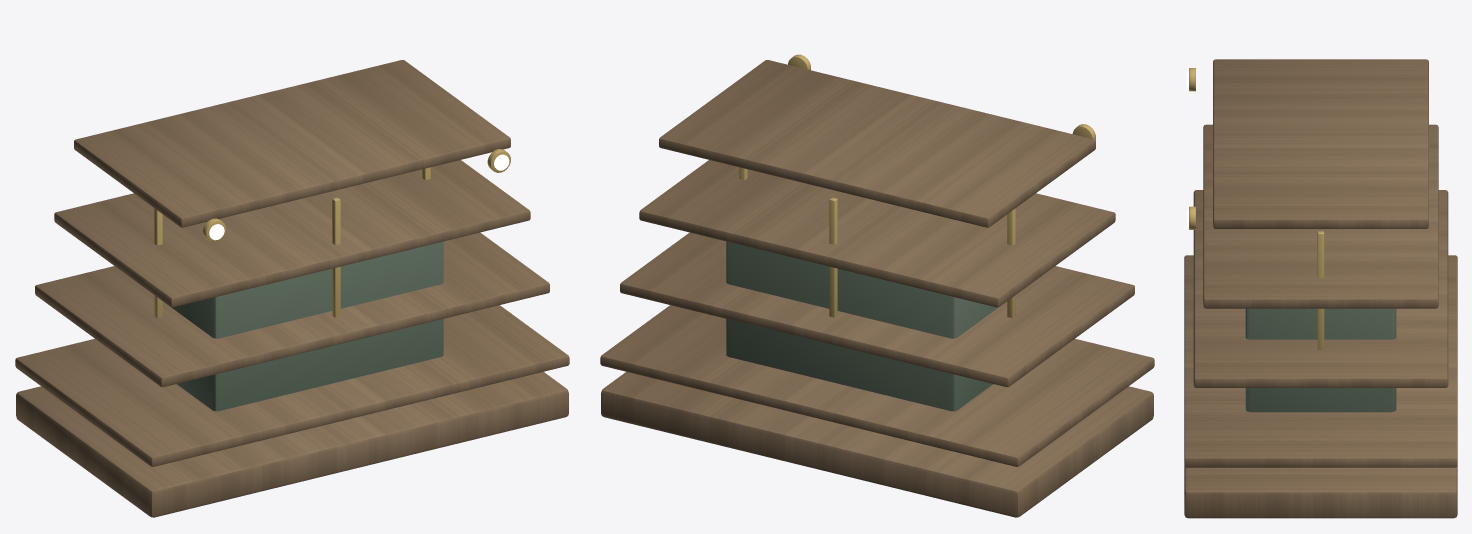
File: pf_display_luxury_display_island_t3.glb
The picture shows the model from 3 angles, left to right: view 1: azimuth 30°, elevation 25°; view 2: azimuth 150°, elevation 25°; view 3: azimuth 270°, elevation 25°; orthographic projection.
Visible parts, largest first — view 1: Island_Deck_04, Island_Deck_03, Island_Deck_01, Island_Base, Island_Deck_02, Island_Core, Island_Brass_Post_4; view 2: Island_Deck_04, Island_Deck_03, Island_Deck_01, Island_Base, Island_Deck_02, Island_Core, Island_Brass_Post_2; view 3: Island_Deck_04, Island_Deck_01, Island_Deck_03, Island_Deck_02, Island_Base, Island_Core, Island_Brass_Post_1.
Boxes of the visible parts, x1,y1,x2,y2 form: Island_Deck_04: (74, 60, 510, 227); Island_Deck_03: (54, 160, 530, 307); Island_Deck_01: (15, 305, 569, 466); Island_Base: (16, 372, 568, 517); Island_Deck_02: (35, 232, 549, 387); Island_Core: (171, 241, 443, 411); Island_Brass_Post_4: (332, 197, 340, 317); Island_Deck_04: (659, 60, 1095, 227); Island_Deck_03: (639, 160, 1115, 307); Island_Deck_01: (600, 305, 1154, 466); Island_Base: (601, 372, 1153, 517); Island_Deck_02: (620, 232, 1134, 387); Island_Core: (726, 241, 998, 411); Island_Brass_Post_2: (829, 197, 837, 317); Island_Deck_04: (1213, 59, 1428, 228); Island_Deck_01: (1184, 255, 1457, 467); Island_Deck_03: (1203, 124, 1438, 308); Island_Deck_02: (1193, 190, 1448, 387); Island_Base: (1184, 466, 1457, 518); Island_Core: (1245, 308, 1396, 412); Island_Brass_Post_1: (1317, 231, 1324, 350).
Bounding box in the file's own units: 1.85 × 1.28 × 1.05.
5 materials, 1 textured.
